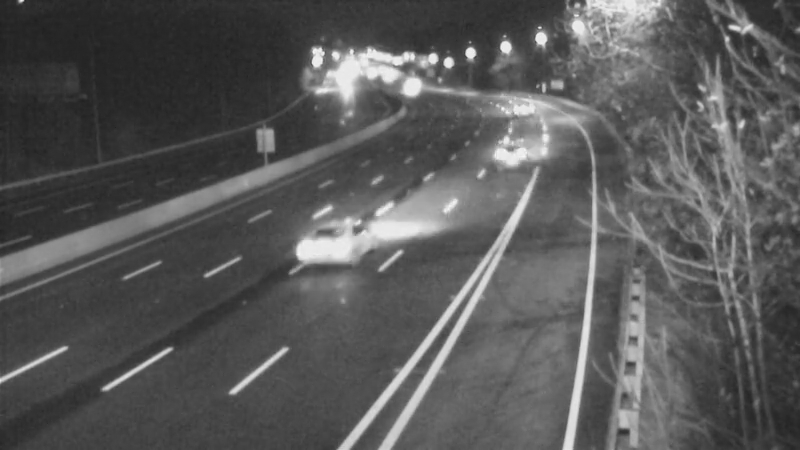vehicle: (471, 114, 551, 194), (303, 208, 383, 288), (387, 58, 437, 108), (504, 88, 554, 138)
